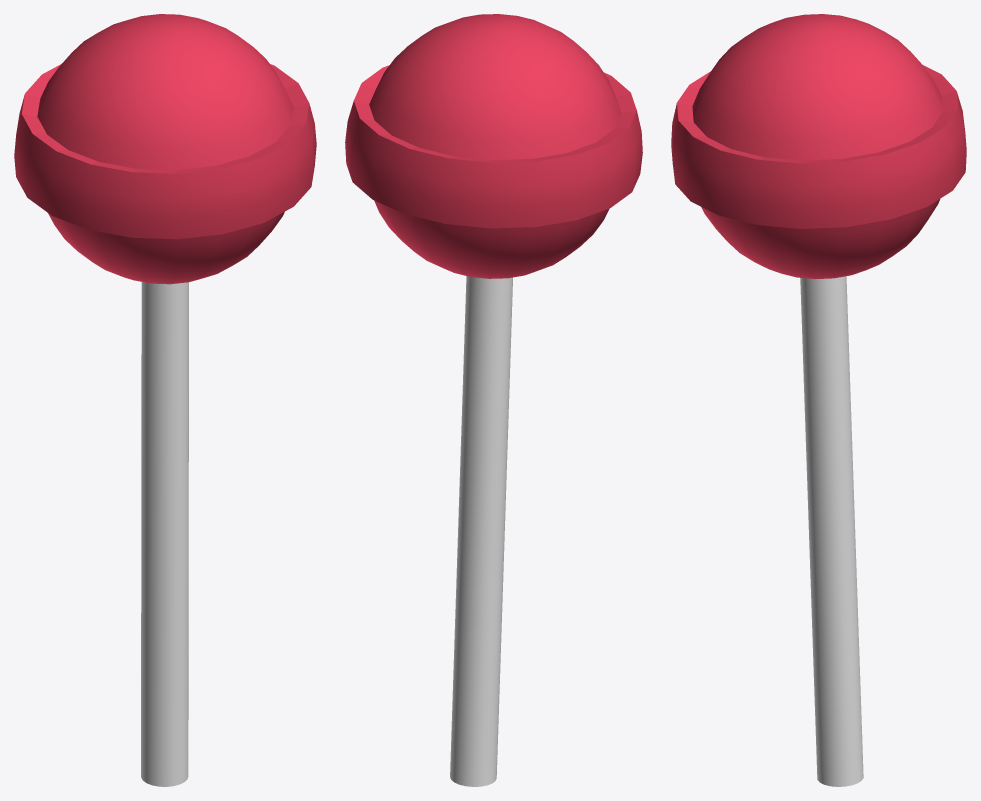
The model's file is LOLLIPOP_RED.fbx.
3 renders of one model, left to right at view 1: azimuth 30°, elevation 25°; view 2: azimuth 150°, elevation 25°; view 3: azimuth 270°, elevation 25°, orthographic.
Visible parts, largest first — view 1: pSphere18; view 2: pSphere18; view 3: pSphere18.
Boxes of the visible parts, x1,y1,x2,y2 form: pSphere18: (14,14,316,786); pSphere18: (345,14,642,786); pSphere18: (671,14,966,786).
Size of the model in its own units: 0.2891 by 0.8056 by 0.289.
